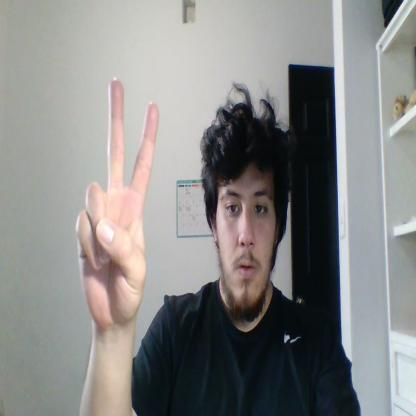V: (76, 77, 159, 324)
